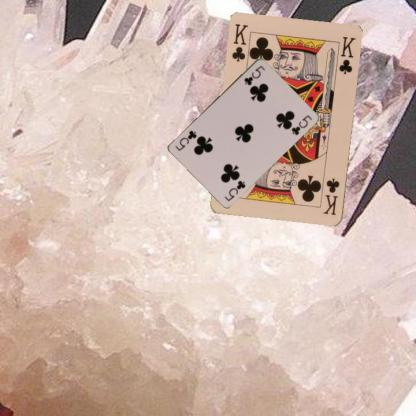5c: (222, 178, 247, 202), (242, 63, 266, 86)
Kc: (230, 21, 250, 63), (321, 176, 341, 216)
